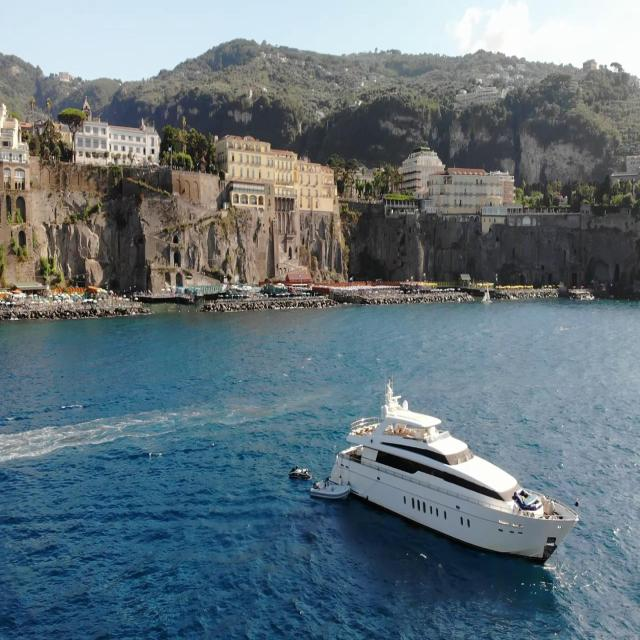boat: (329, 380, 579, 572), (309, 472, 346, 505), (290, 460, 312, 480)
